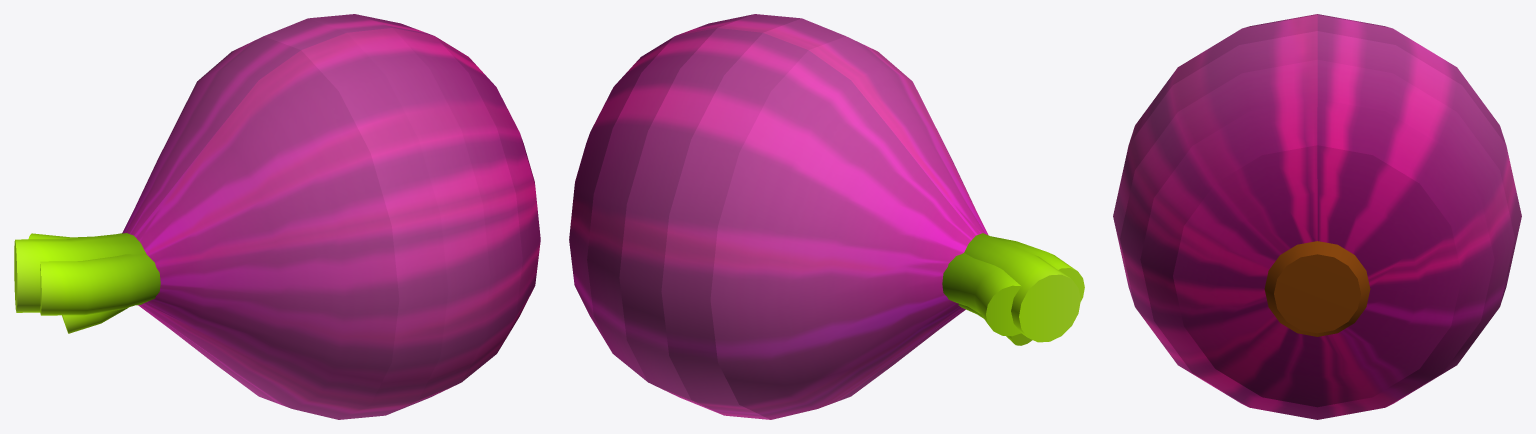
File: Onion_01_Sliced.fbx
The picture shows the model from 3 angles, left to right: view 1: azimuth 30°, elevation 25°; view 2: azimuth 150°, elevation 25°; view 3: azimuth 270°, elevation 25°; orthographic projection.
Parts seen in each view (by area): view 1: Onion_01_P5, Onion_01_P4, Onion_01_P3, Onion_01_P2, Onion_01_P1; view 2: Onion_01_P5, Onion_01_P4, Onion_01_P3, Onion_01_P2, Onion_01_P1; view 3: Onion_01_Sliced, Onion_01_P1, Onion_01_P2, Onion_01_P3, Onion_01_P4.
Boxes of the visible parts, x1,y1,x2,y2 form: Onion_01_P5: [14, 36, 399, 419]; Onion_01_P4: [264, 18, 448, 419]; Onion_01_P3: [308, 14, 490, 414]; Onion_01_P2: [356, 14, 522, 381]; Onion_01_P1: [435, 36, 540, 351]; Onion_01_P5: [710, 36, 1084, 419]; Onion_01_P4: [661, 18, 845, 419]; Onion_01_P3: [619, 14, 801, 415]; Onion_01_P2: [587, 14, 753, 381]; Onion_01_P1: [569, 36, 674, 350]; Onion_01_Sliced: [1173, 145, 1461, 407]; Onion_01_P1: [1140, 99, 1494, 419]; Onion_01_P2: [1120, 59, 1514, 406]; Onion_01_P3: [1113, 31, 1521, 305]; Onion_01_P4: [1129, 15, 1505, 144].
Bounding box in the file's own units: 45.16 × 32.97 × 32.97.
